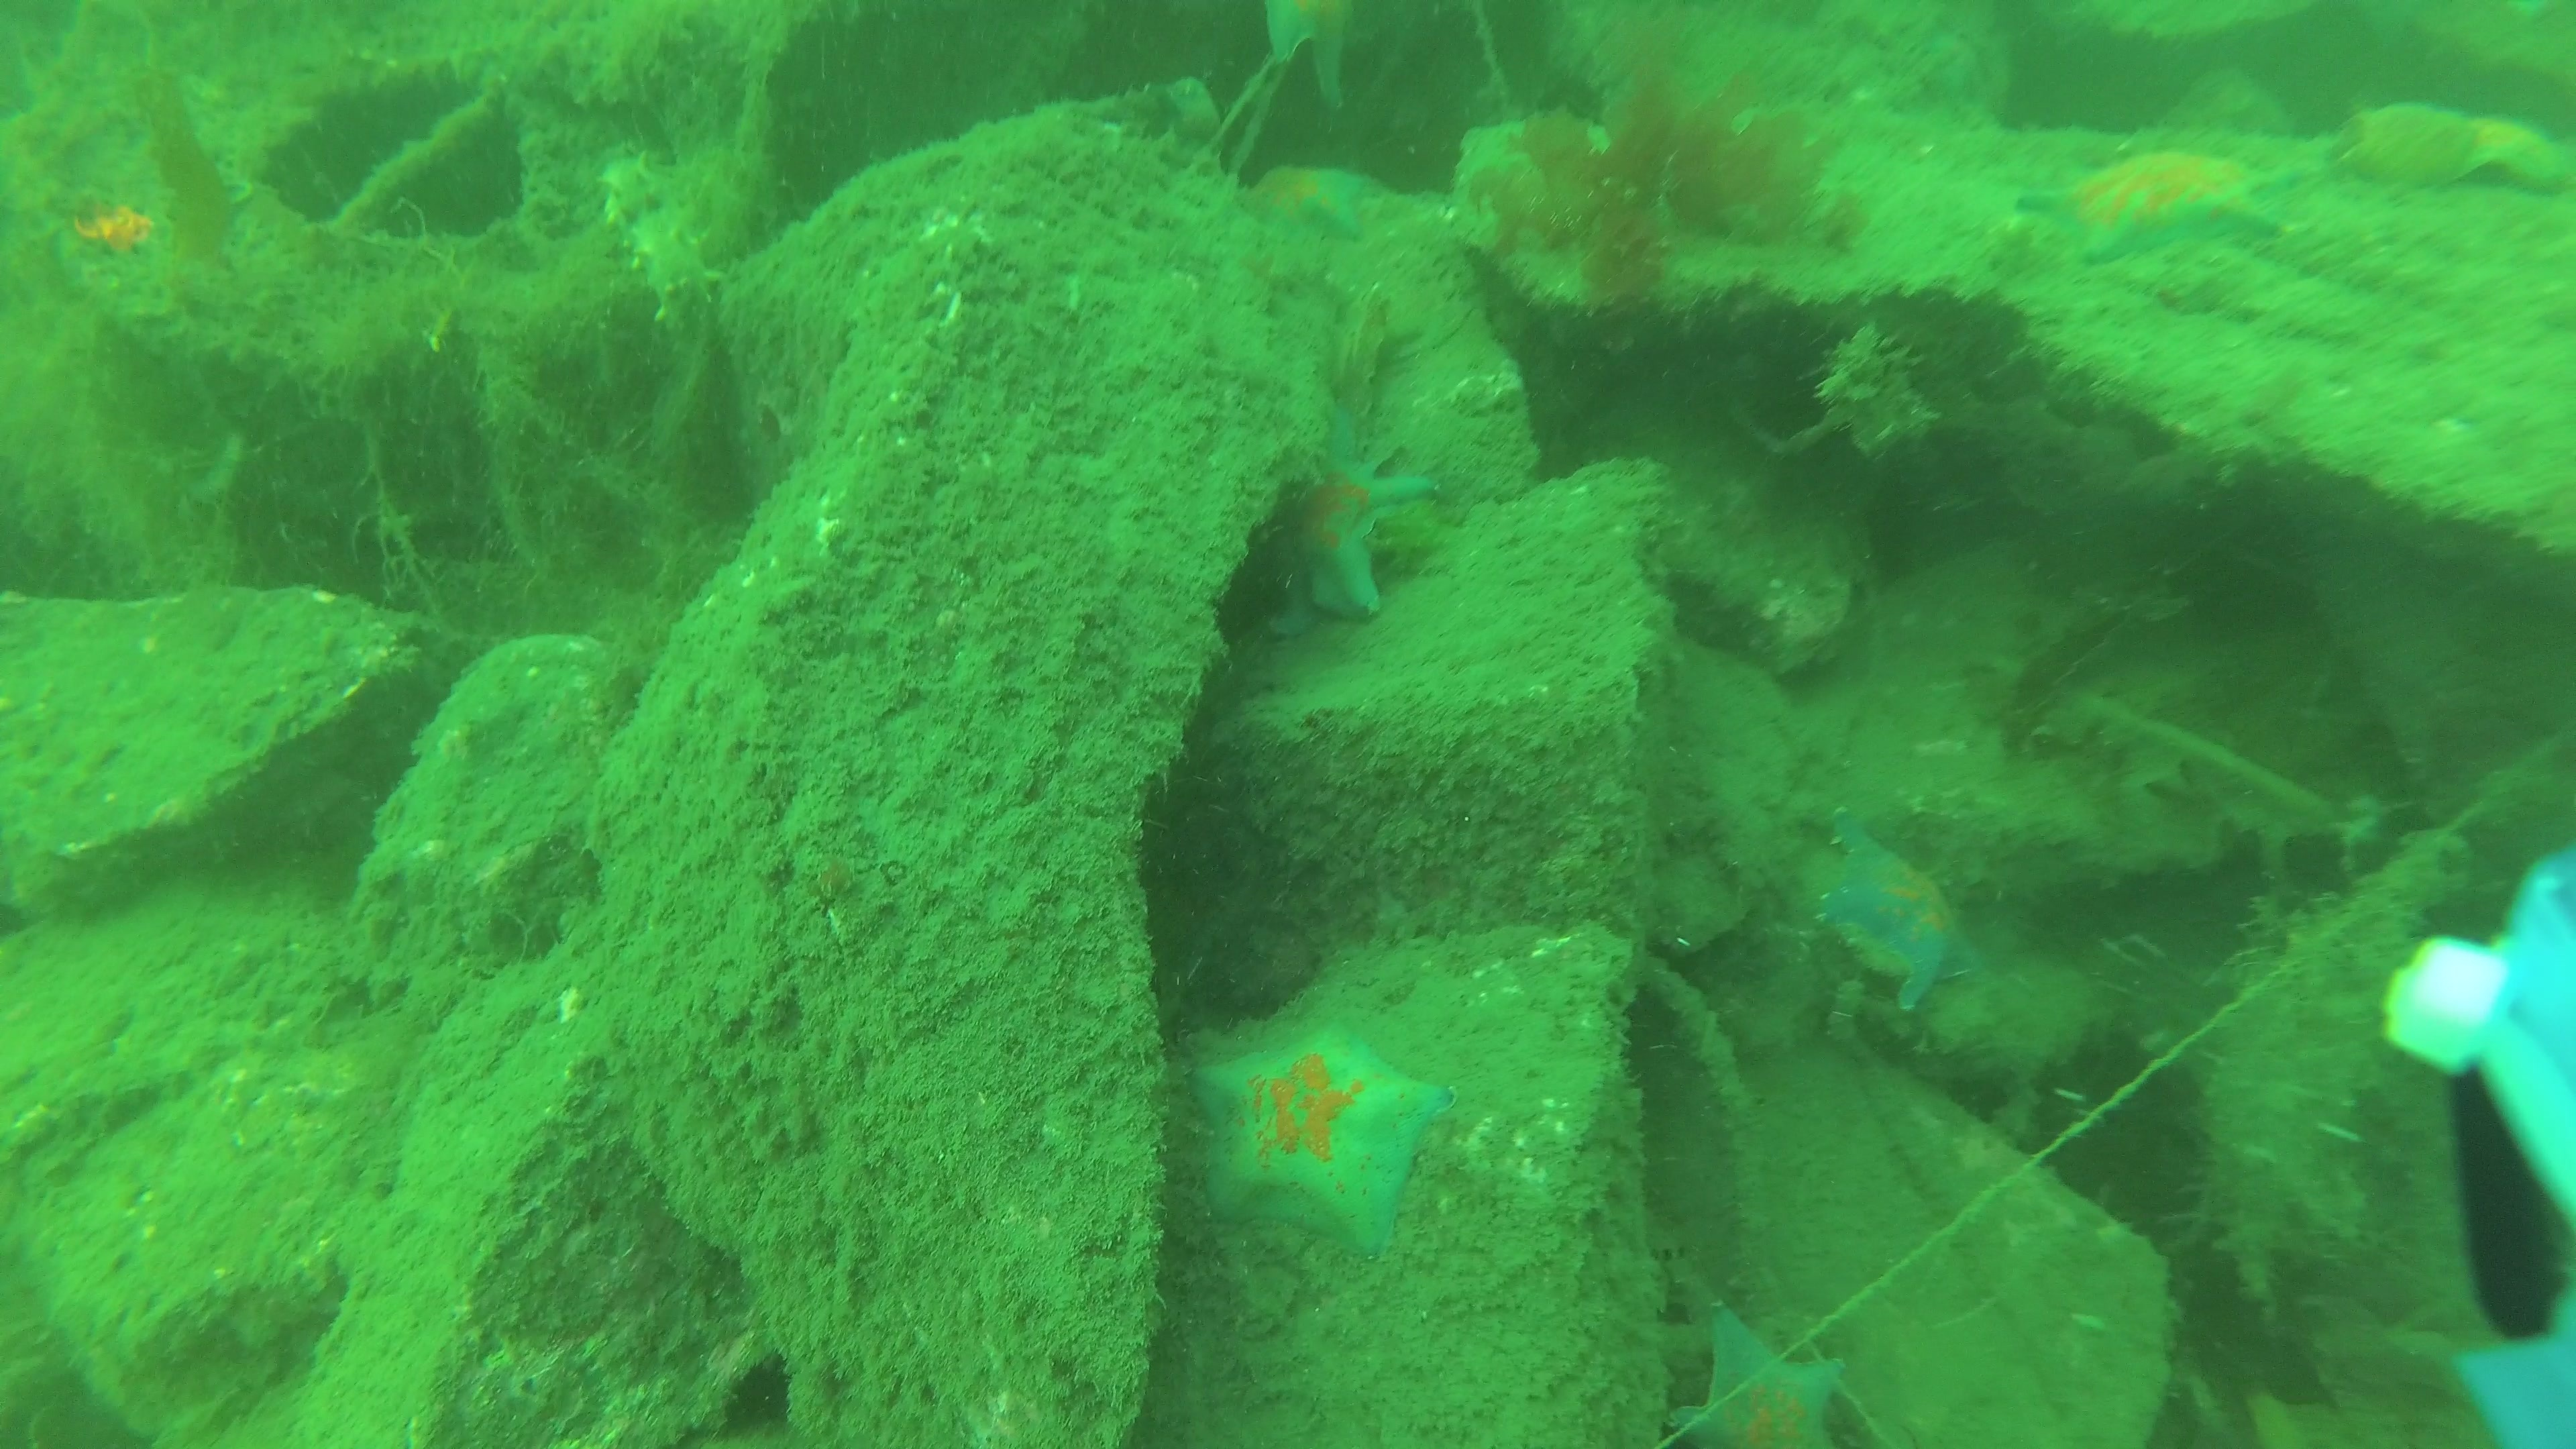holothurian: (605, 157, 727, 329)
starfish: (1196, 1040, 1451, 1246), (2020, 147, 2286, 260), (1810, 809, 1962, 1005), (1304, 409, 1431, 607), (1690, 1309, 1844, 1449), (1242, 163, 1392, 241), (2457, 113, 2571, 189)
